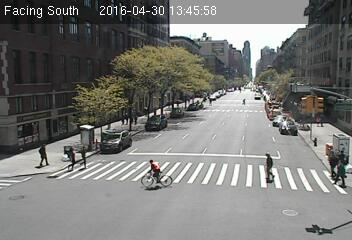neg: (140, 153, 169, 191), (20, 90, 49, 128), (63, 47, 88, 80), (172, 72, 194, 101), (265, 98, 286, 125), (102, 43, 122, 70), (42, 56, 62, 82), (143, 32, 162, 57), (221, 95, 239, 120), (302, 96, 320, 121), (213, 35, 231, 59), (84, 112, 99, 132), (259, 34, 274, 53), (131, 68, 145, 88), (296, 58, 310, 78), (116, 119, 130, 137)
pos: (255, 150, 278, 181), (30, 139, 51, 168), (329, 159, 348, 185), (64, 145, 81, 168), (79, 144, 95, 166), (326, 146, 340, 166)
